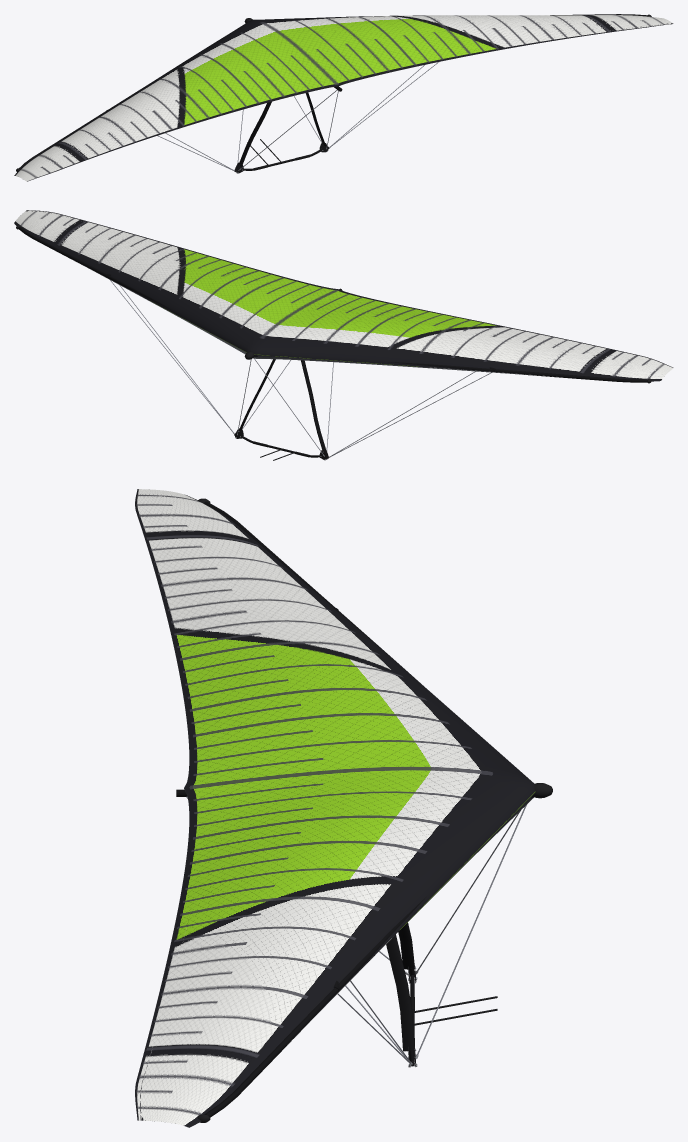
The model's file is glider_icaro_laminar_z9.glb.
3 views of the same model, one above another, from view 1: azimuth 30°, elevation 25°; view 2: azimuth 150°, elevation 25°; view 3: azimuth 270°, elevation 25° (orthographic). The views are drawn at different scales.
Parts seen in each view (by area): view 1: Sail, ControlFrame, Frame; view 2: Sail, ControlFrame, Frame; view 3: Sail, ControlFrame, Frame.
Boxes of the visible parts, box(x1,y1,x2,y2) form: Sail: box(14, 15, 673, 181); ControlFrame: box(157, 62, 438, 173); Frame: box(16, 14, 651, 171); Sail: box(14, 210, 673, 381); ControlFrame: box(110, 280, 491, 460); Frame: box(16, 224, 651, 383); Sail: box(135, 489, 535, 1127); ControlFrame: box(186, 796, 526, 1067); Frame: box(176, 498, 552, 1122).
Size of the model in its own units: 10.02 by 1.94 by 2.8.
Materials: 8 (1 with a texture image).
